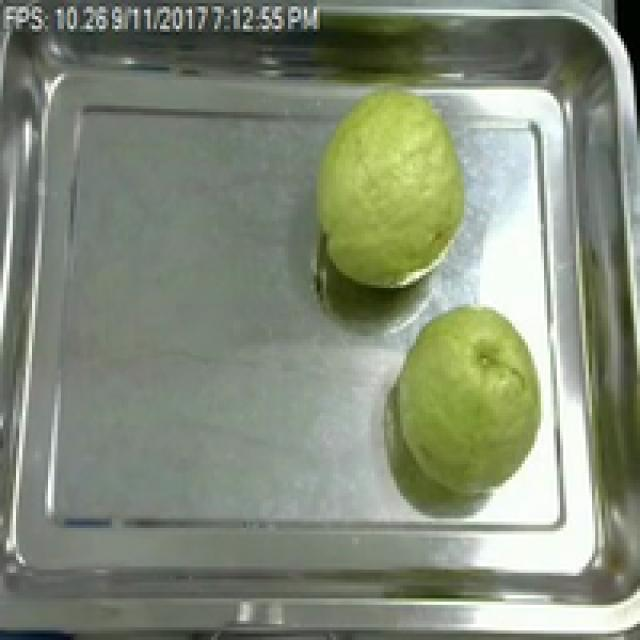Fruit: (301, 80, 480, 301), (381, 294, 563, 506)
